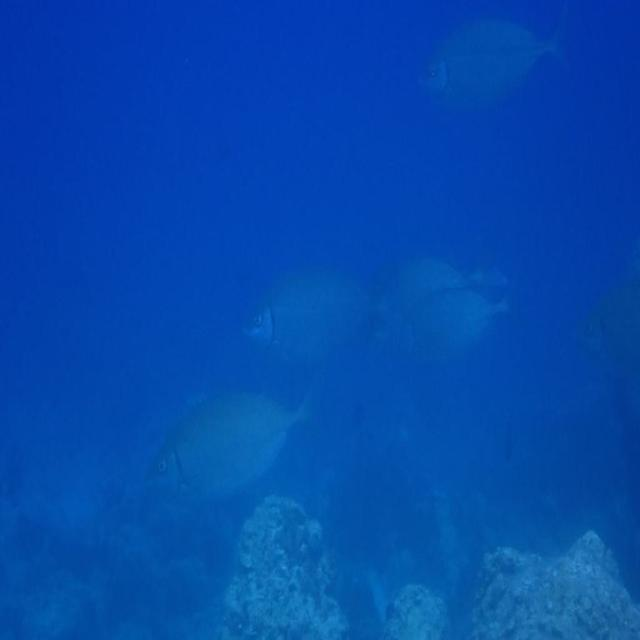Sokar Baligi: (135, 362, 330, 526), (414, 0, 586, 121)
